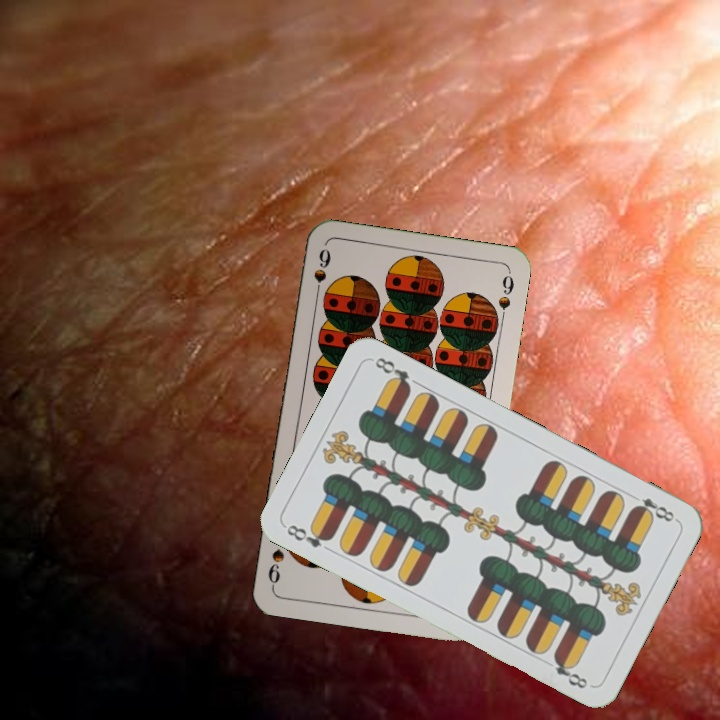E8: (626, 489, 680, 525), (282, 520, 335, 551)
S9: (309, 245, 333, 302)
